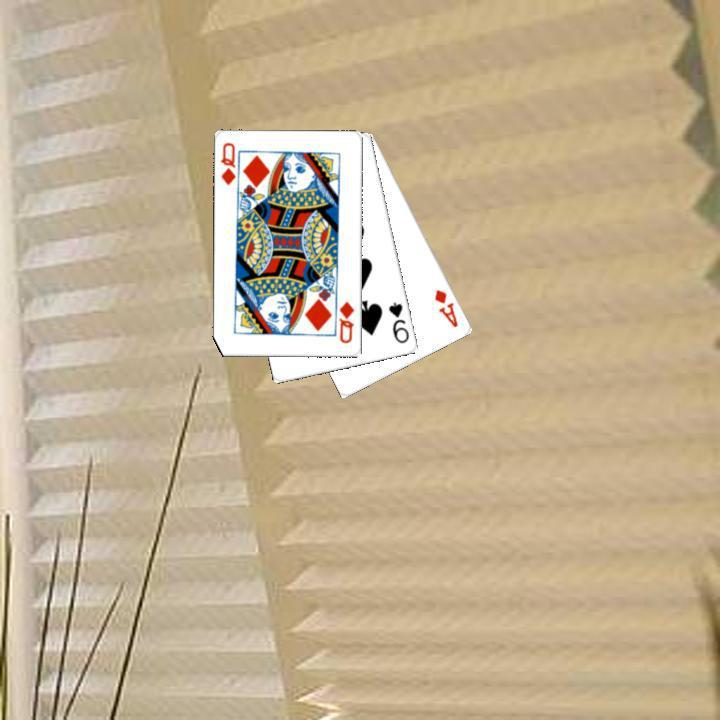9: (385, 298, 411, 346)
A: (430, 285, 460, 330)
Q: (335, 297, 357, 345), (217, 139, 238, 187)
